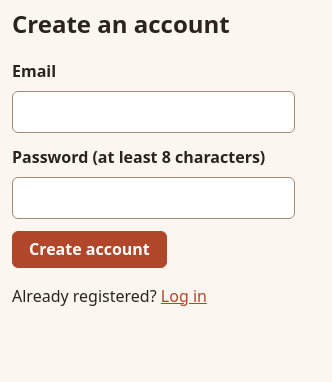
Test: RegisterPage: the form › enables the button again after a failure so the user can retry
Click the button "Create account" at (89, 249), box 12,231 -> 167,268
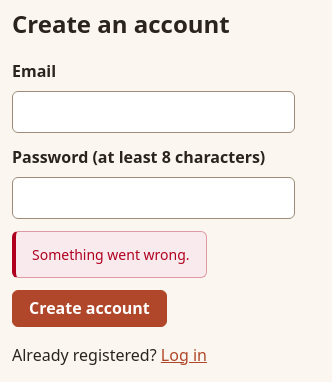
Expected: the button "Create account" is enabled, 12,290 -> 167,327
Expected: the message "Something went wrong." is shown, 12,231 -> 207,278
